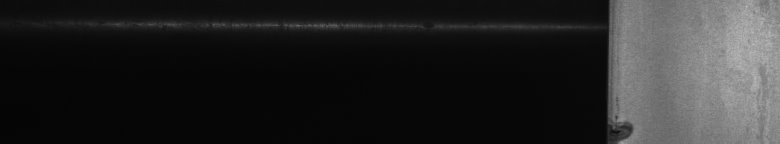hb: (620, 116, 639, 136)
